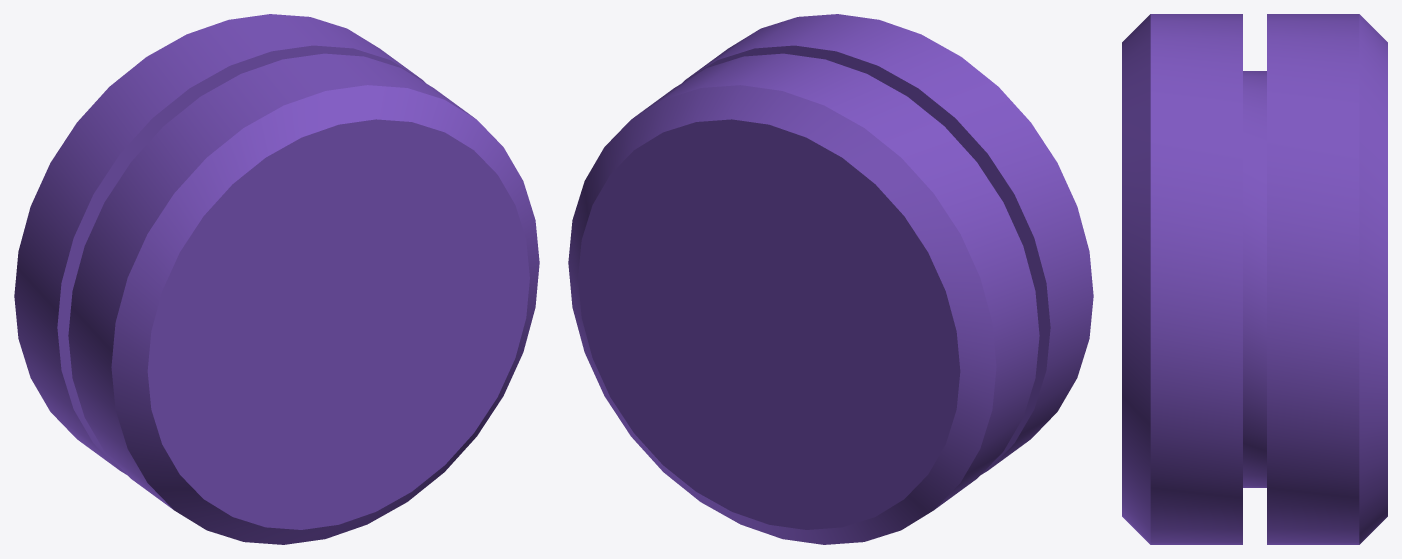
3 renders of one model, left to right at view 1: azimuth 30°, elevation 25°; view 2: azimuth 150°, elevation 25°; view 3: azimuth 270°, elevation 25°, orthographic. The views are drawn at different scales.
Visible parts, largest first — view 1: yo_yo; view 2: yo_yo; view 3: yo_yo.
Boxes of the visible parts, bbox=[...] form: yo_yo: bbox=[14, 14, 539, 544]; yo_yo: bbox=[568, 14, 1093, 544]; yo_yo: bbox=[1122, 14, 1387, 544].
Size of the model in its own units: 0.06 by 0.06 by 0.03.
